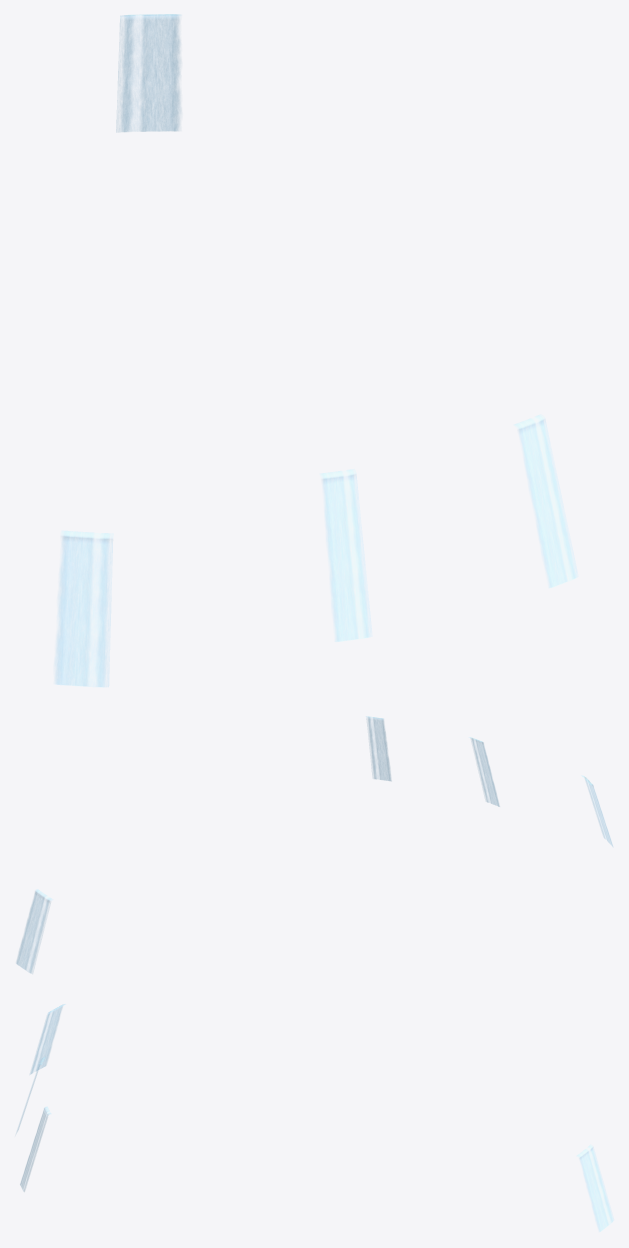
The model's file is citadel_falls.glb.
3 renders of one model, top to bottom at view 1: azimuth 30°, elevation 25°; view 2: azimuth 150°, elevation 25°; view 3: azimuth 270°, elevation 25°, orthographic. The views are drawn at different scales.
Visible parts, largest first — view 1: falls_0_0, falls_1_1, falls_0_1, falls_2_0, falls_1_0, falls_3_0, falls_2_1, falls_3_1; view 2: falls_1_0, falls_1_1, falls_3_1, falls_3_0, falls_2_1, falls_2_0; view 3: falls_1_0, falls_1_1, falls_0_1, falls_0_0, falls_3_0, falls_3_1.
Boxes of the visible parts, box(x1,y1,x2,y2) form: falls_0_0: box(56, 531, 108, 687); falls_1_1: box(116, 15, 181, 132); falls_0_1: box(55, 531, 113, 686); falls_2_0: box(321, 470, 368, 641); falls_1_0: box(123, 14, 179, 131); falls_3_0: box(516, 416, 575, 587); falls_2_1: box(320, 469, 371, 641); falls_3_1: box(514, 414, 577, 587); falls_1_0: box(16, 890, 50, 972); falls_1_1: box(17, 889, 52, 973); falls_3_1: box(366, 716, 390, 780); falls_3_0: box(368, 716, 390, 780); falls_2_1: box(469, 737, 499, 806); falls_2_0: box(470, 737, 498, 805); falls_1_0: box(578, 1146, 612, 1231); falls_1_1: box(577, 1145, 613, 1231); falls_0_1: box(30, 1004, 65, 1073); falls_0_0: box(31, 1004, 64, 1073); falls_3_0: box(20, 1107, 50, 1191); falls_3_1: box(21, 1107, 50, 1191).
Size of the model in its own units: 126 by 26.25 by 189.
Materials: 2 (2 with a texture image).
